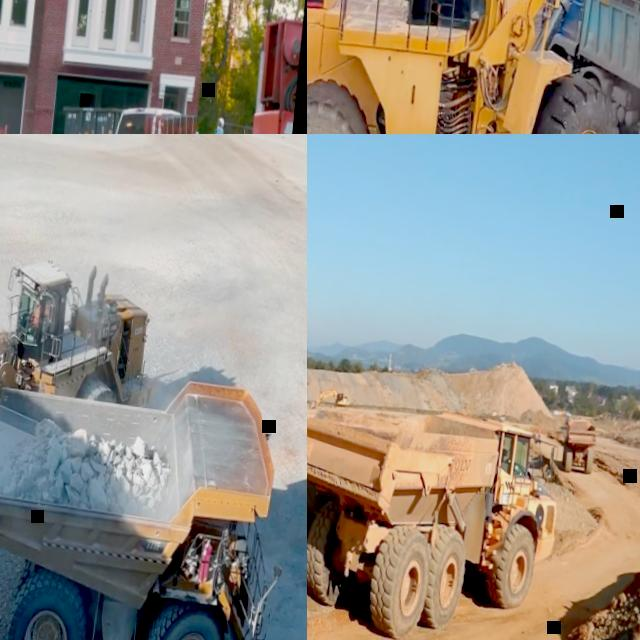helmet: (216, 119, 224, 127)
machinery: (0, 352, 301, 640), (307, 396, 566, 640), (0, 233, 157, 577), (307, 0, 640, 134), (528, 0, 640, 134), (561, 417, 597, 475), (312, 386, 349, 408)
no_vest: (212, 128, 224, 134), (537, 428, 540, 436)
person: (29, 299, 50, 329), (498, 439, 509, 466), (211, 118, 226, 134), (536, 427, 540, 440)
vehicle: (63, 97, 215, 134)
vest: (30, 304, 50, 328)
